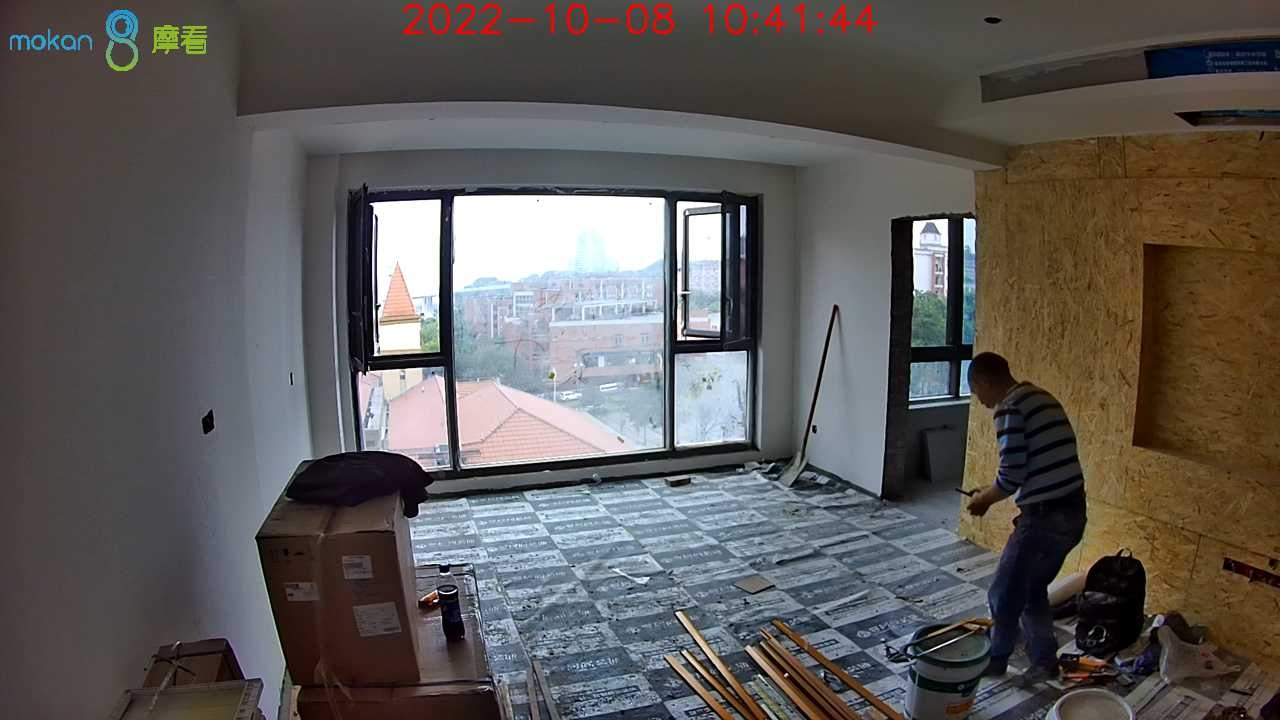people: (966, 352, 1087, 688)
window: (348, 187, 766, 467)
